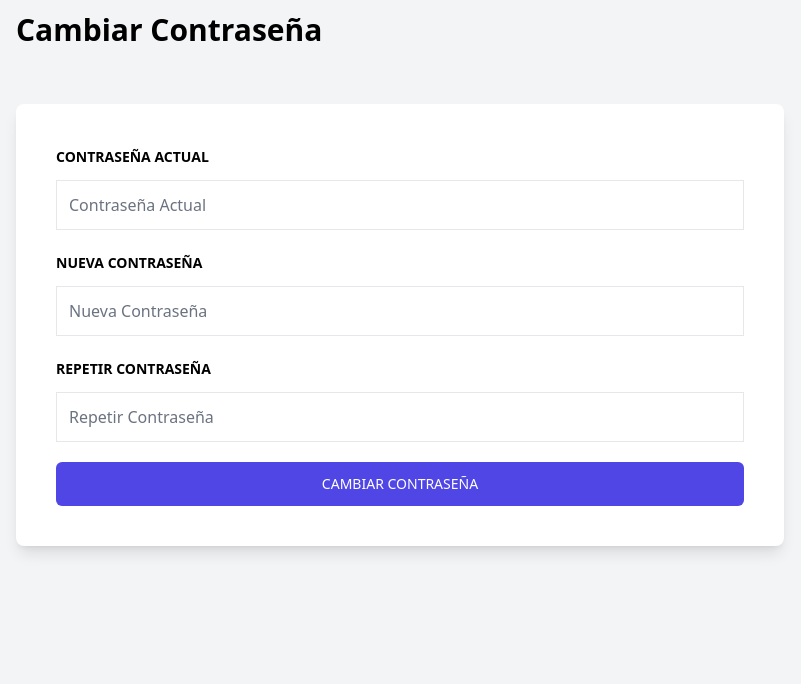
Test: ChangePasswordView › debe validar longitud mínima de contraseña
This screenshot has width=801, height=684.
In the password field with placeholder "Contraseña Actual": (400, 205) x1=56 y1=180 x2=744 y2=230, type "current123"
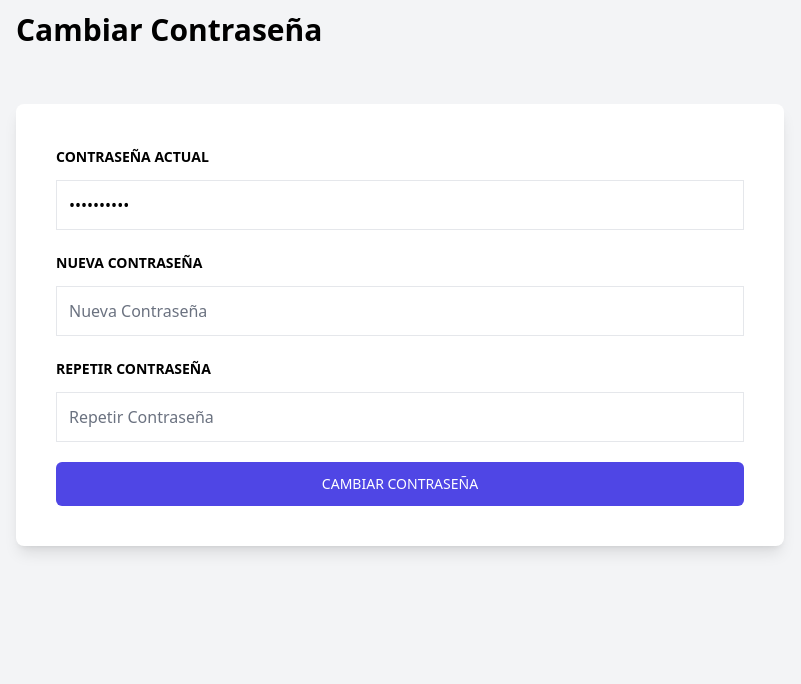
In the password field with placeholder "Nueva Contraseña": (400, 311) x1=56 y1=286 x2=744 y2=336, type "short"
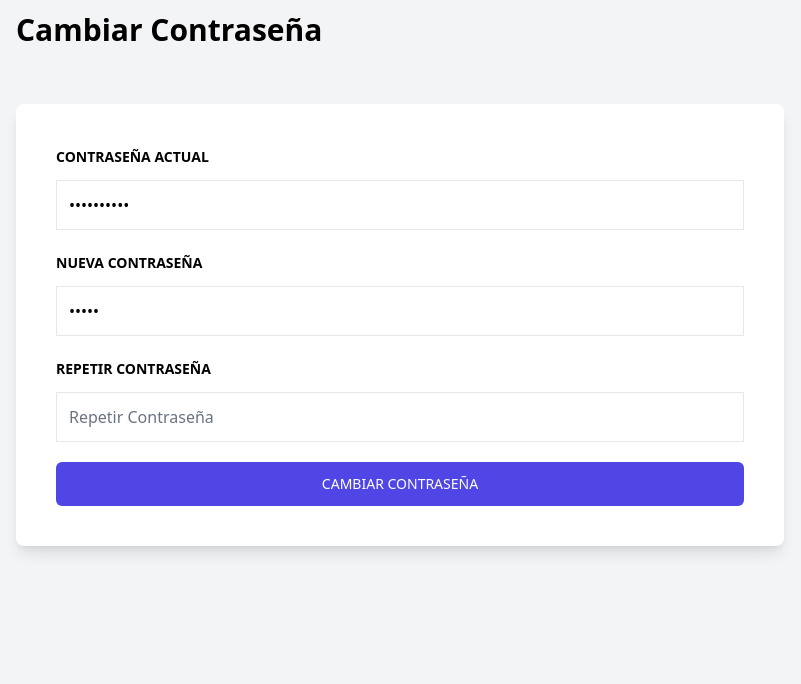
Click the button showing "Cambiar Contraseña": click(400, 484) x1=56 y1=462 x2=744 y2=506
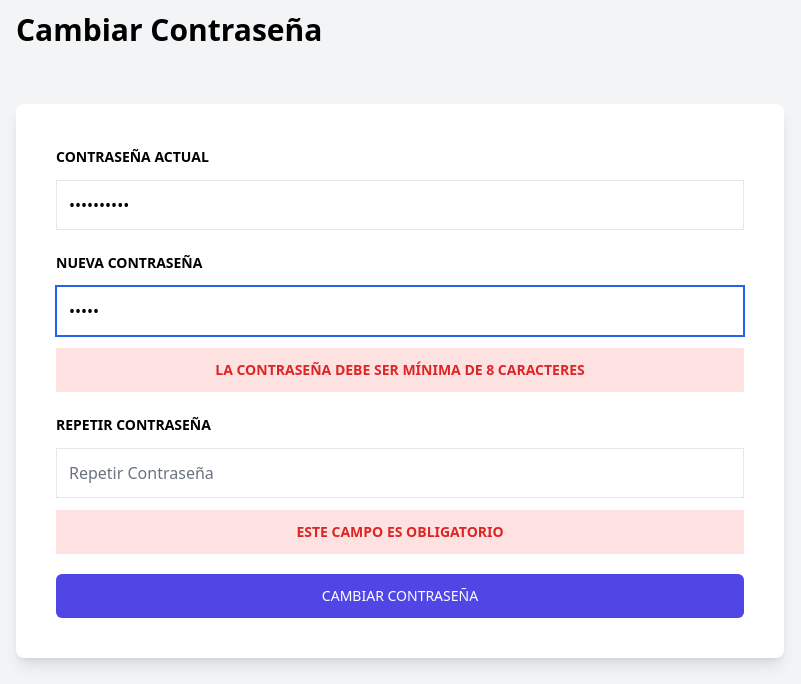
Check: the text "La contraseña debe ser mínima de 8 caracteres" is shown, box x1=56 y1=348 x2=744 y2=392
